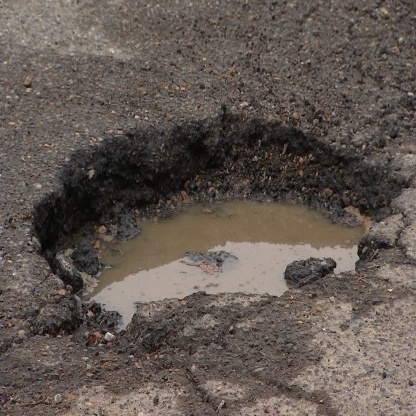pothole: (15, 114, 414, 351)
